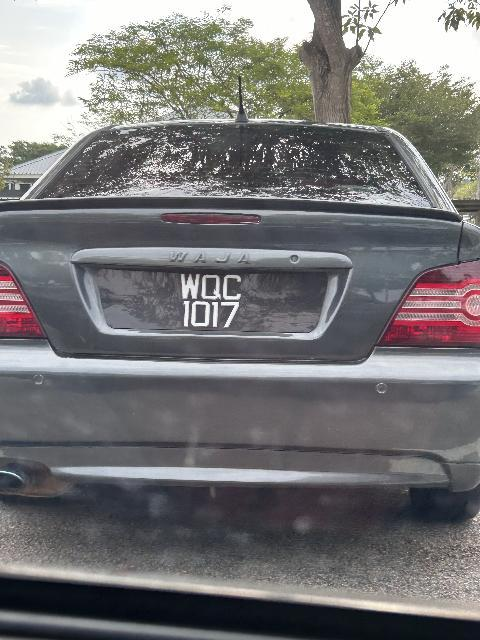License_Plate: (97, 270, 320, 337)
WQC1017: (97, 270, 320, 337)
car: (1, 119, 480, 530)
